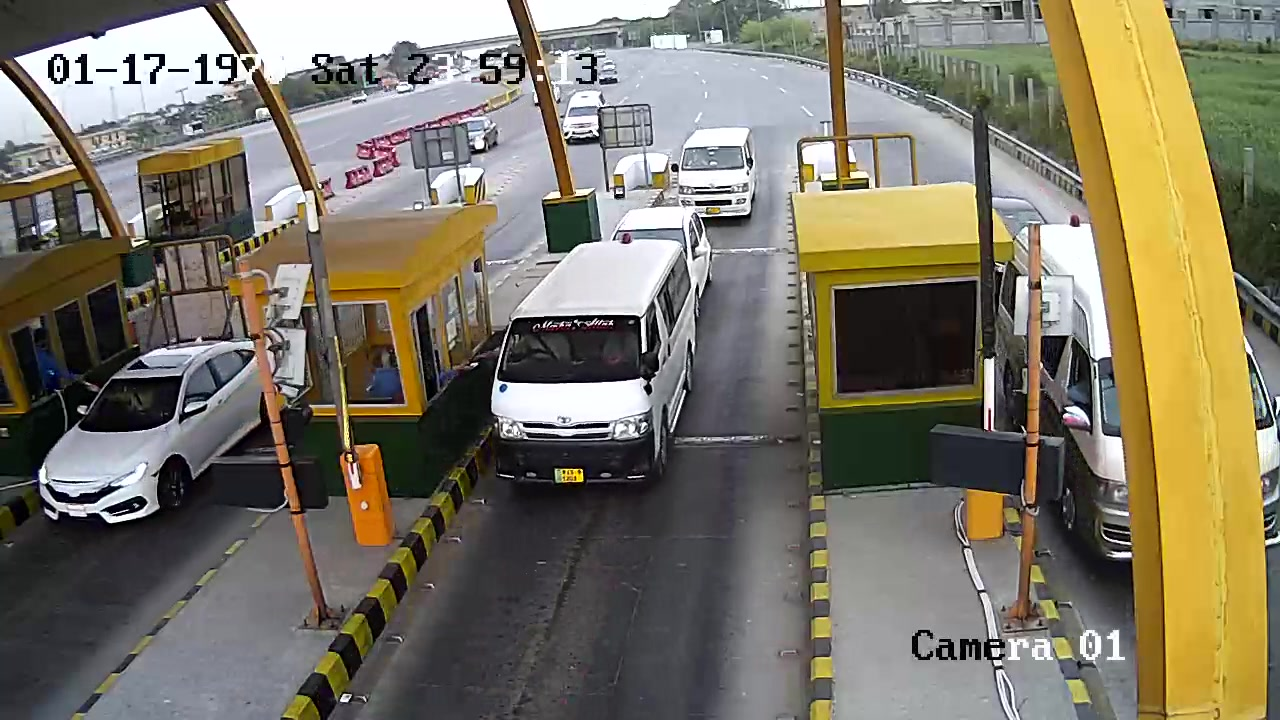F2: (485, 240, 702, 515)
